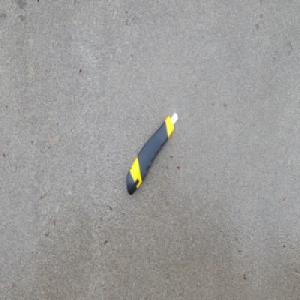Cutter: (126, 111, 178, 197)
